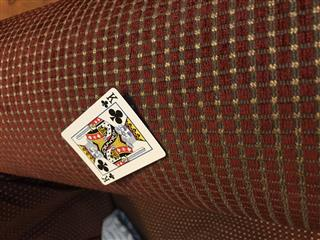KingOfClubs: (59, 86, 167, 186)
